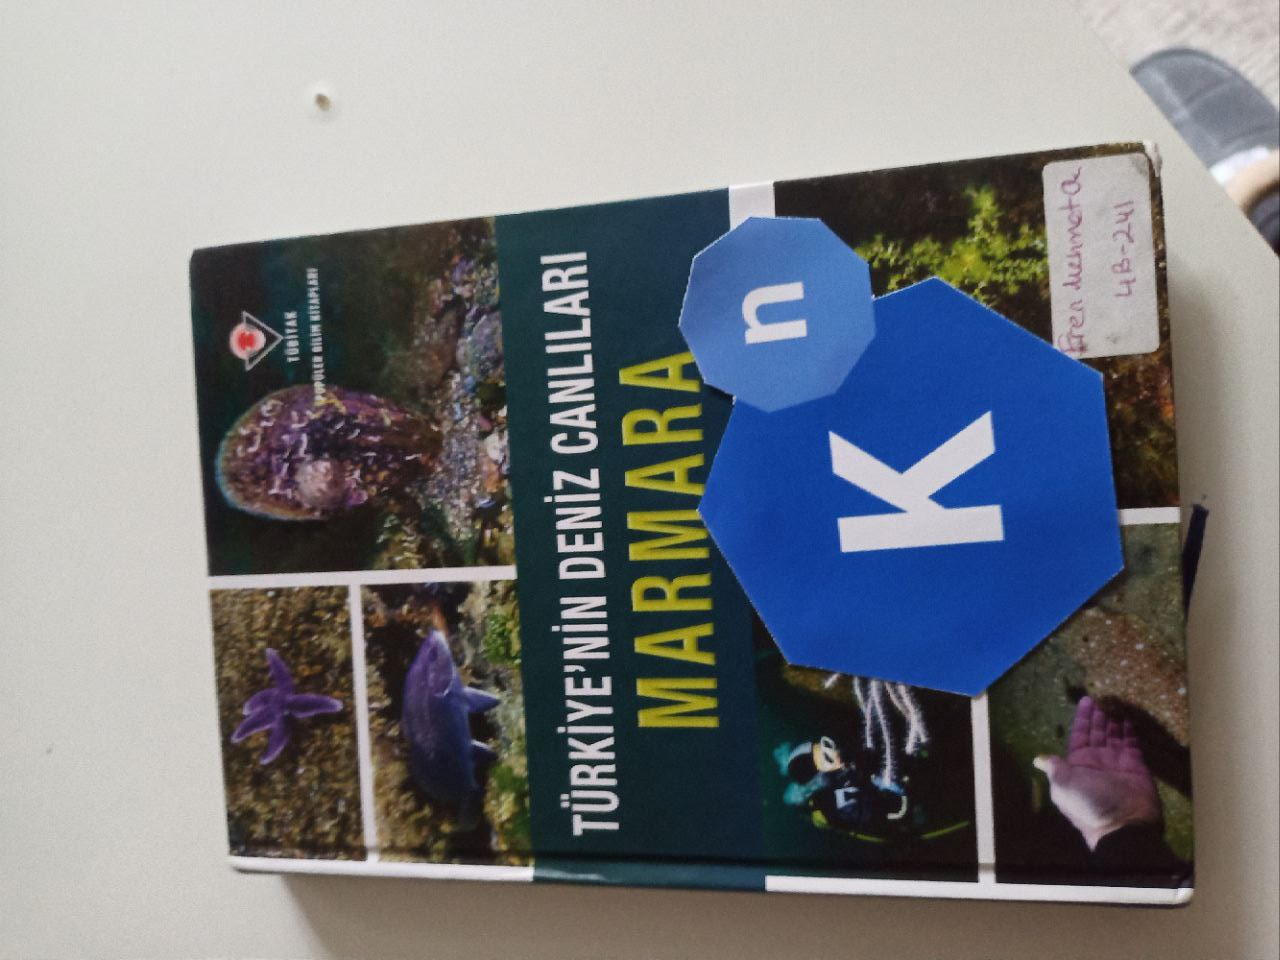knative: (680, 215, 1128, 695)
